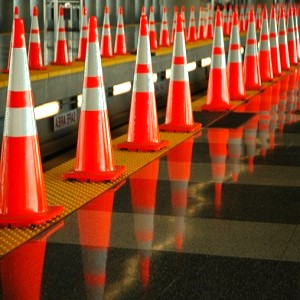traffic cone: (1, 18, 64, 227), (61, 16, 126, 182), (115, 16, 168, 151), (159, 14, 202, 135), (199, 12, 233, 111), (223, 10, 249, 102), (241, 9, 264, 91), (22, 4, 47, 70), (50, 5, 74, 66), (96, 5, 115, 59), (75, 6, 91, 63), (112, 5, 128, 56)
